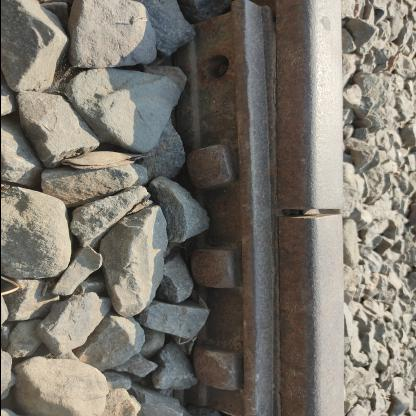Defective: (162, 18, 288, 408)
